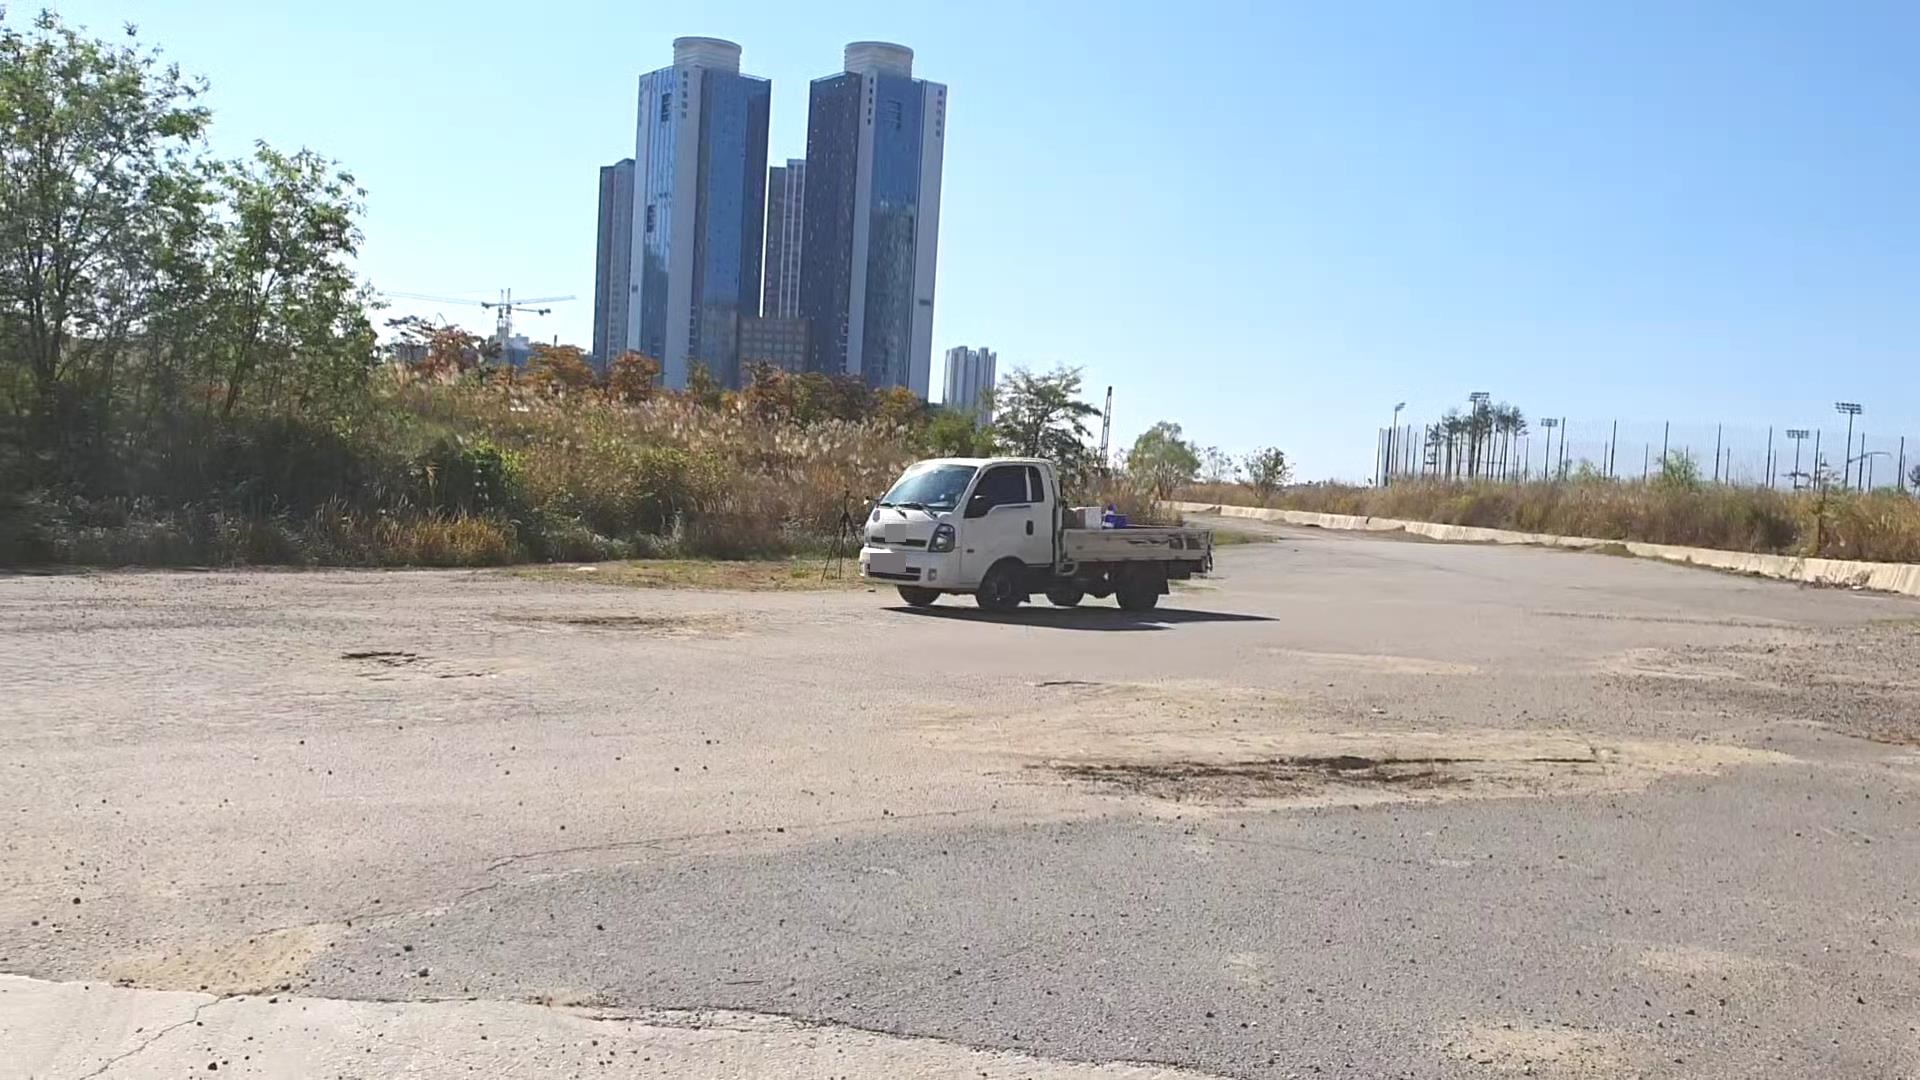불법차량: (858, 457, 1213, 615)
